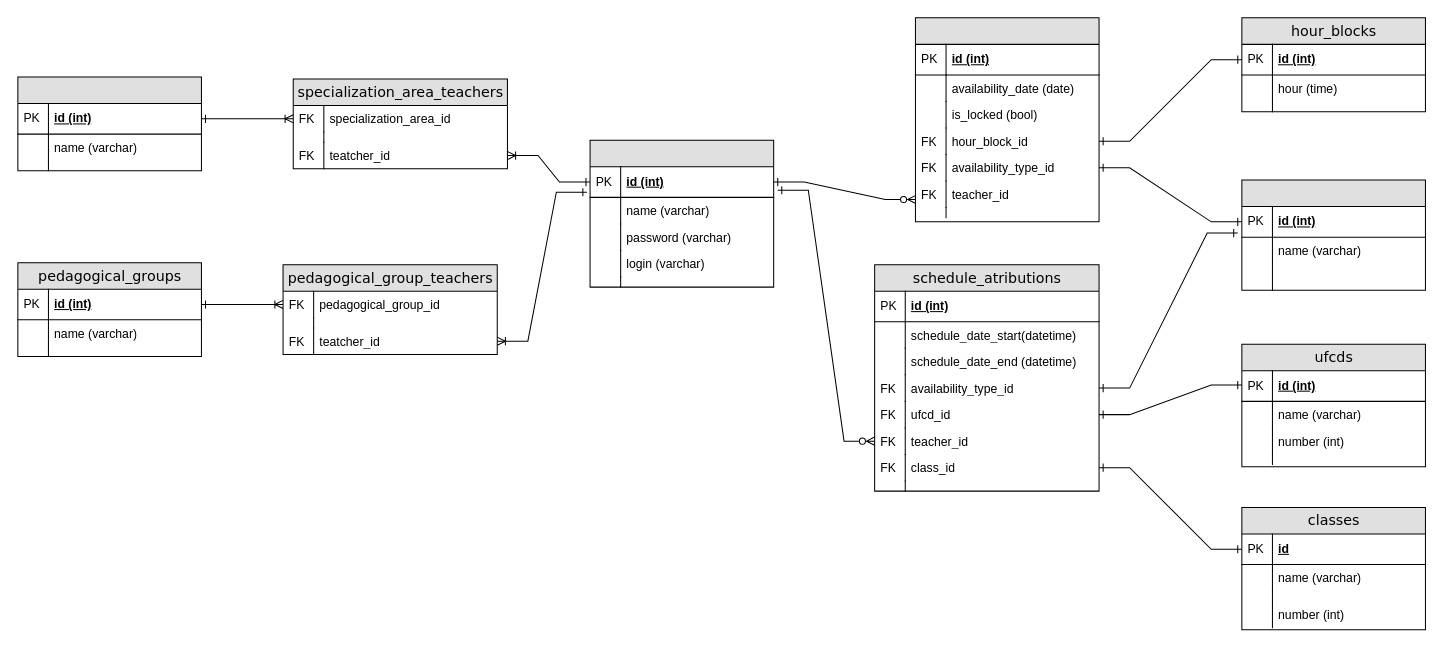
Some shapes in this 1443 by 649 pixel diagram are drawn without their labels. The shapes that lost their labels are listed below. From the top down, each one's box as (x1, y1, x2, y2) in pixels, then its label:
(17, 76, 201, 171): specialization_areas
(914, 17, 1099, 222): teacher_availabilities
(589, 139, 774, 287): teachers
(1241, 179, 1425, 290): availability_types
